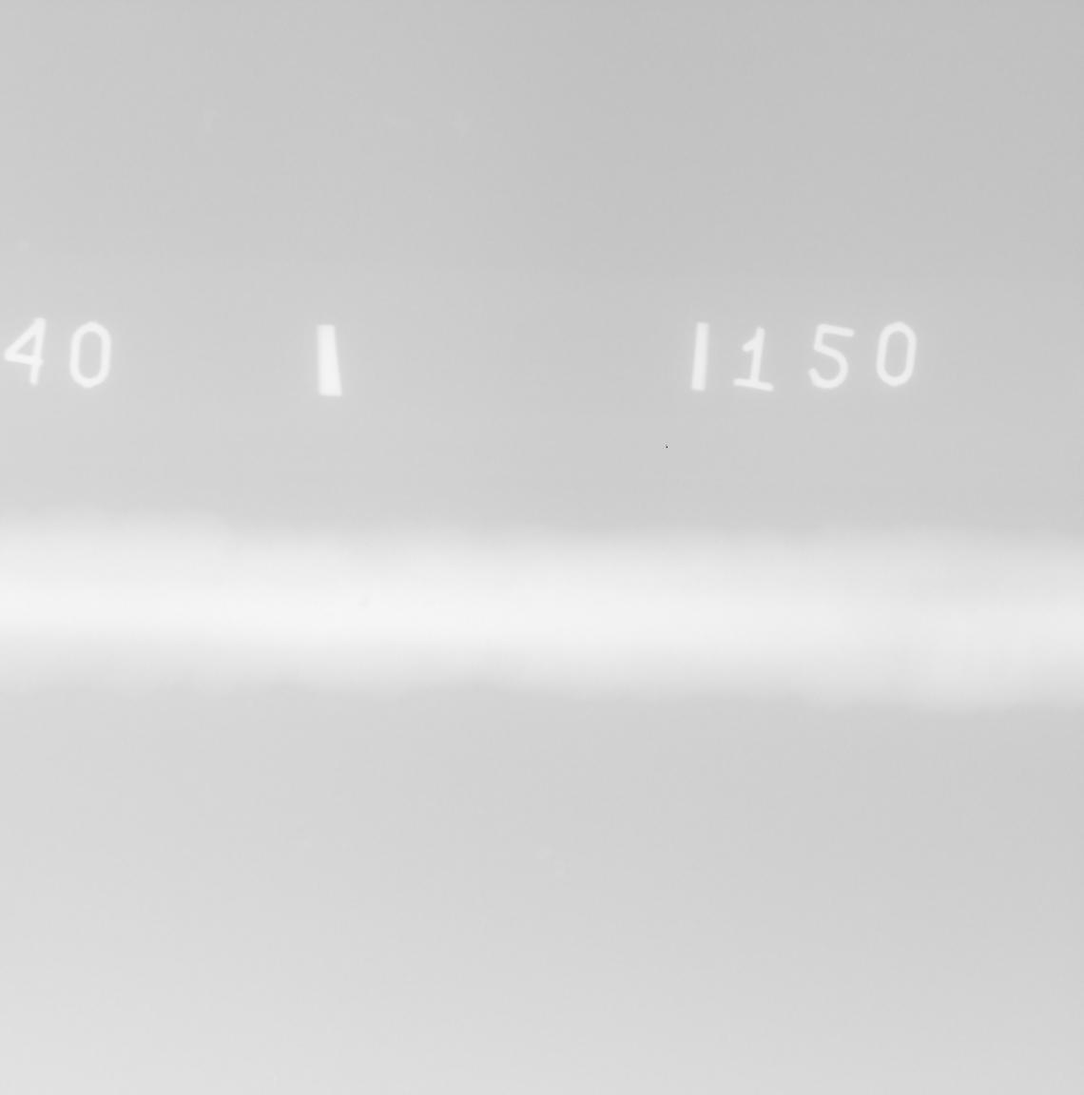Inclusion: (693, 576, 700, 581)
Pore/Porosity: (360, 598, 369, 607), (425, 599, 433, 608), (325, 614, 333, 618), (486, 640, 491, 645)
